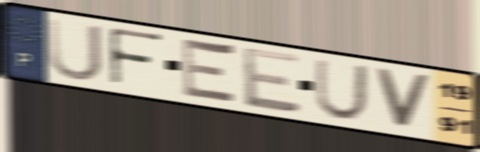E: (239, 44, 304, 116), (180, 35, 240, 109)
F: (106, 25, 166, 90)
U: (45, 15, 106, 84), (312, 57, 372, 123)
V: (371, 65, 434, 133)
